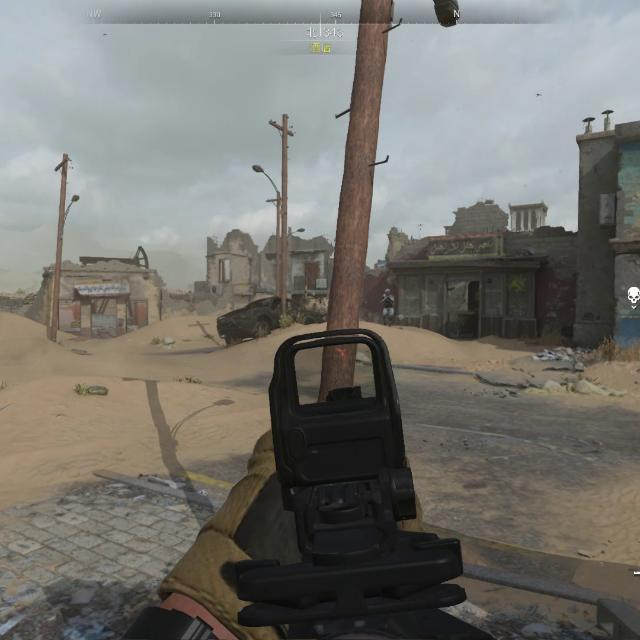MW2_body: (378, 287, 396, 328)
